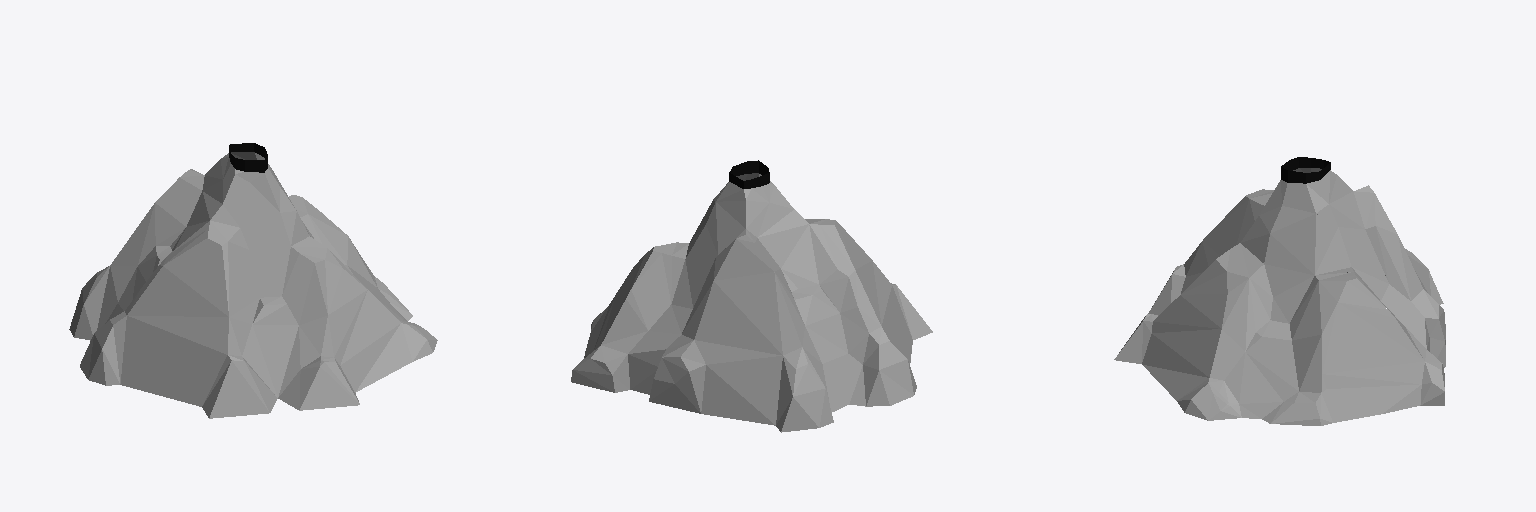
File: LavaWorldHomeGround004.obj.obj
3 renders of one model, left to right at view 1: azimuth 30°, elevation 25°; view 2: azimuth 150°, elevation 25°; view 3: azimuth 270°, elevation 25°, orthographic.
Bounding box in the file's own units: 14731 × 8400 × 13494.